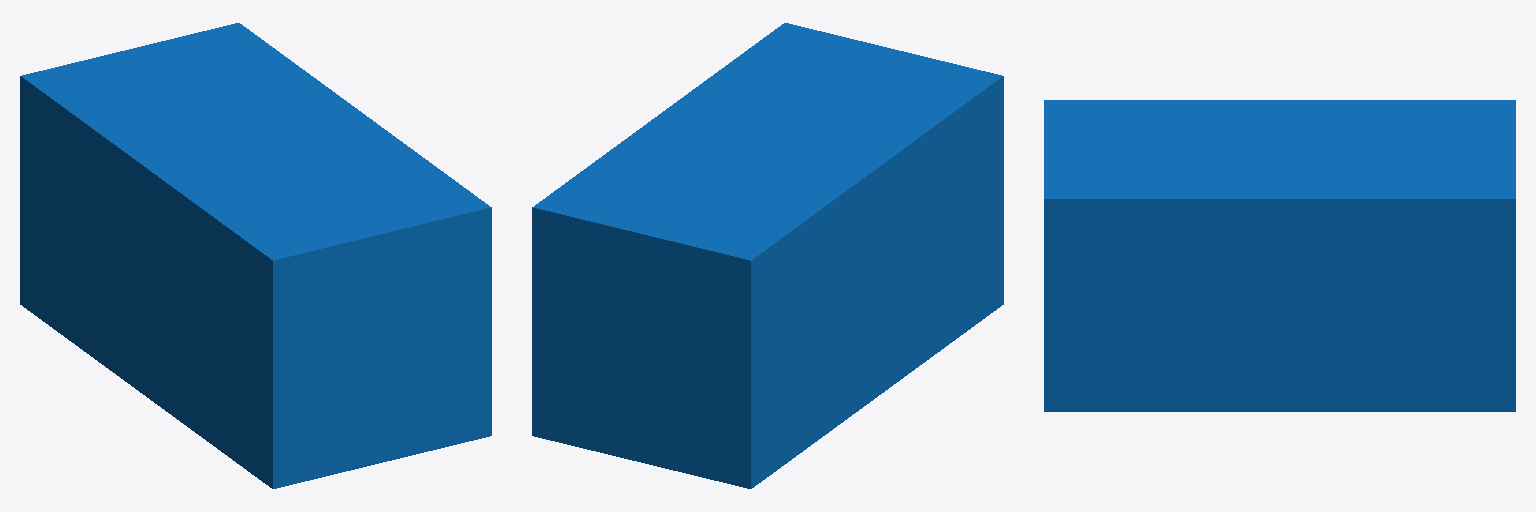
URDF robot description (cuboid0):
<?xml version="0.0" ?>
<robot name="cuboid0">
  <link name="baseLink">
    <contact>
      <lateral_friction value="1.0"/>
      <rolling_friction value="0.0"/>
      <contact_cfm value="0.0"/>
      <contact_erp value="1.0"/>
    </contact>
    <inertial>
      <mass value="0.035"/>
      <origin rpy="0 0 0" xyz="0 0 0"/>
      <inertia ixx="5.25e-06" ixy="0" ixz="0" iyy="1.31e-5" iyz="0" izz="1.31e-5"/>
    </inertial>
    <visual>
      <origin rpy="0 0 0" xyz="0 0 0"/>
      <geometry>
        <mesh filename="meshes/cuboid0.obj"/>
      </geometry>
      <material name="white">
        <color rgba="0.1 0.5 0.8 1"/>
      </material>
    </visual>
    <collision>
      <origin rpy="0 0 0" xyz="0 0 0"/>
      <geometry>
        <mesh filename="meshes/cuboid0.obj"/>
      </geometry>
    </collision>
  </link>
</robot>

--- Render facts (derived) ---
The picture shows the robot from 3 angles, left to right: view 1: azimuth 30°, elevation 25°; view 2: azimuth 150°, elevation 25°; view 3: azimuth 270°, elevation 25°; orthographic projection.
Robot: cuboid0 — 1 links, 0 joints (none); root link baseLink; default pose: every joint at zero.
Visible links, largest first — view 1: baseLink; view 2: baseLink; view 3: baseLink.
Boxes of the visible links, x1=… form: baseLink: x1=20, y1=23, x2=491, y2=488; baseLink: x1=532, y1=23, x2=1003, y2=488; baseLink: x1=1044, y1=100, x2=1515, y2=411.
Bounding box of the posed robot: 0.03 × 0.06 × 0.03 m (x, y, z).
Meshes: 1 distinct files referenced, 1 mesh visuals loaded (1 OBJ).